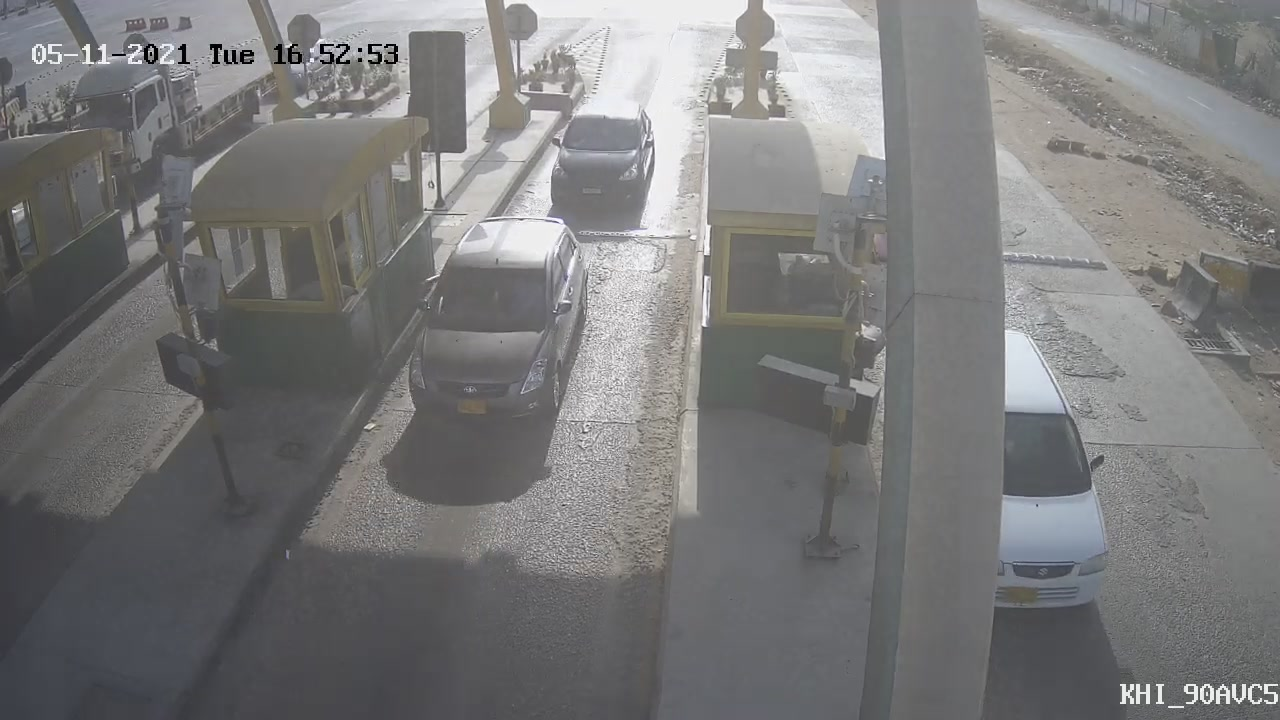F1: (389, 200, 607, 453), (527, 85, 669, 224)
